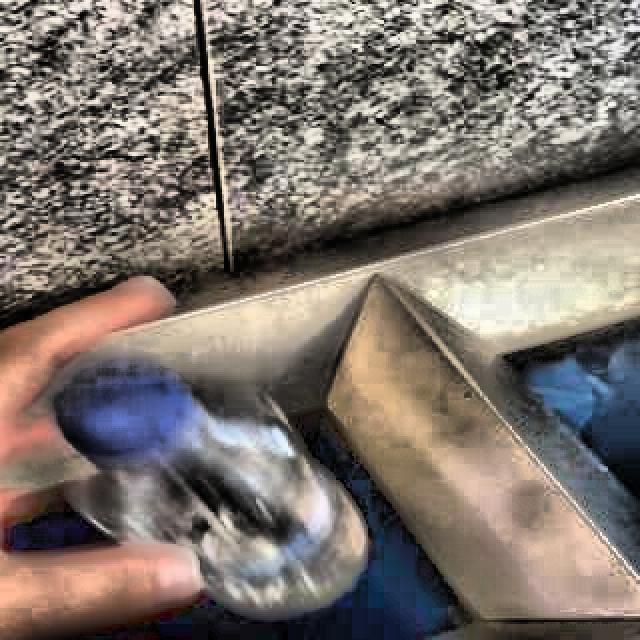plastic: (48, 358, 365, 619)
